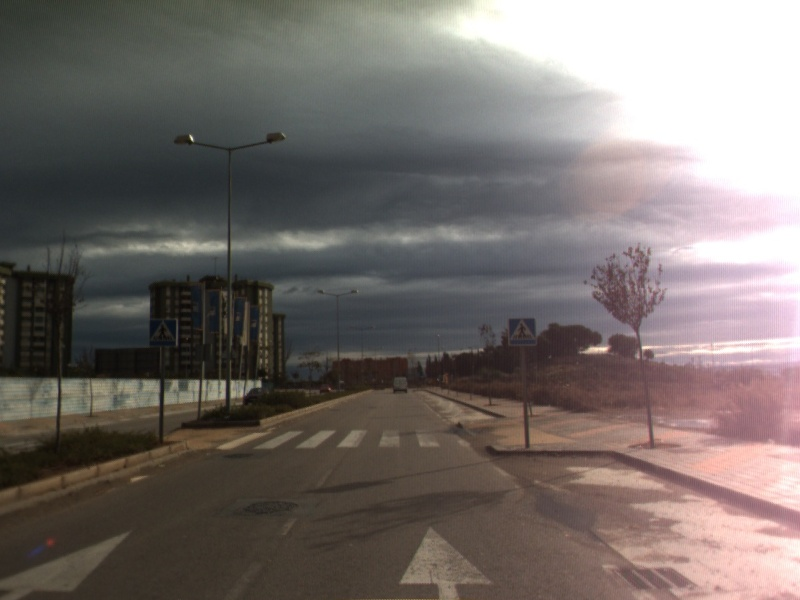STRAIGHT: (1, 527, 136, 600), (395, 522, 498, 600)
